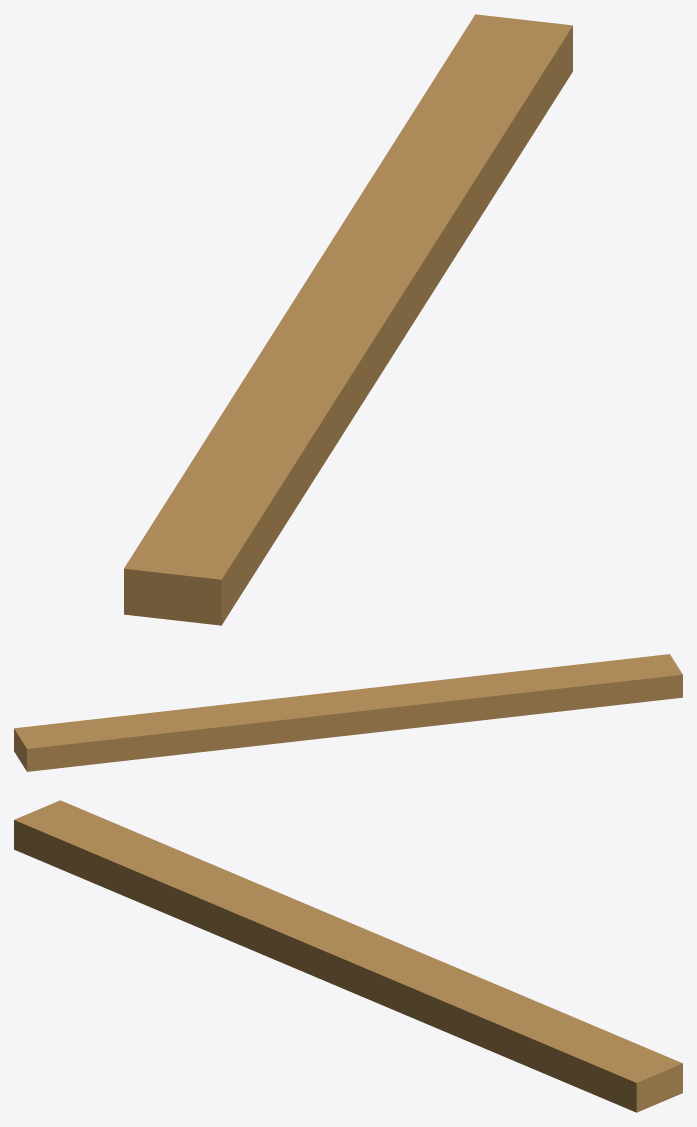
The picture shows the model from 3 angles, top to bottom: view 1: azimuth 30°, elevation 25°; view 2: azimuth 150°, elevation 25°; view 3: azimuth 270°, elevation 25°; orthographic projection. The views are drawn at different scales.
Parts seen in each view (by area): view 1: RUN-019-S01-bottom_plate; view 2: RUN-019-S01-bottom_plate; view 3: RUN-019-S01-bottom_plate.
Part boxes in pixels (x1=…): RUN-019-S01-bottom_plate: x1=124, y1=14, x2=572, y2=625; RUN-019-S01-bottom_plate: x1=14, y1=654, x2=682, y2=771; RUN-019-S01-bottom_plate: x1=14, y1=800, x2=682, y2=1112.
Bounding box in the file's own units: 0.9173 × 0.045 × 0.9173.
